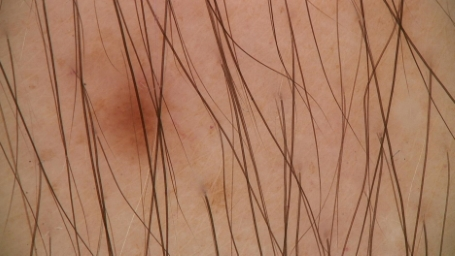nevus: (108, 81, 170, 160)
